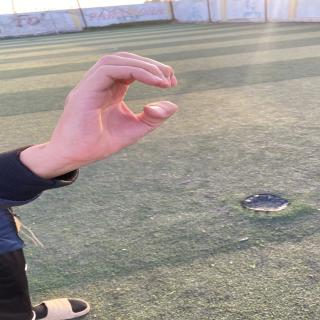JEEM: (25, 44, 215, 169)
